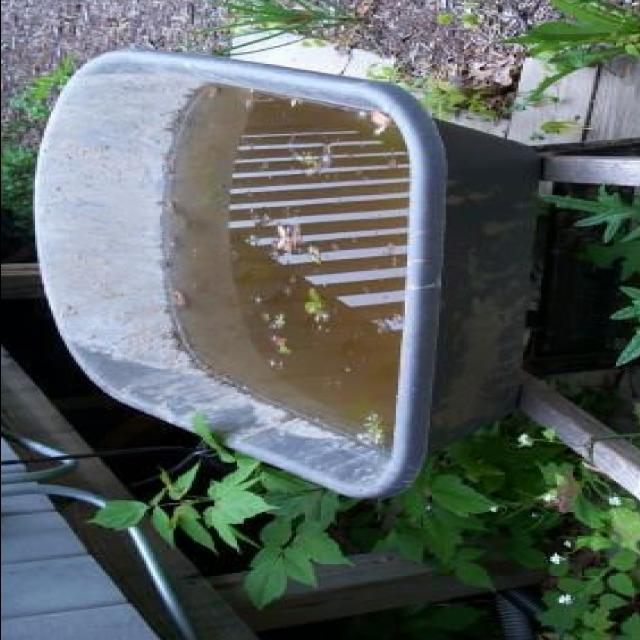Breeding Place: (32, 54, 551, 488)
